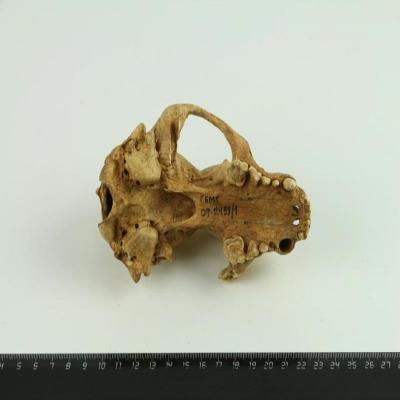natural_science_collection: (95, 104, 312, 284)
